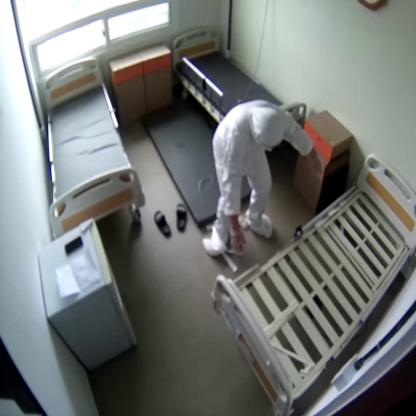Bed: (171, 27, 307, 124)
Person: (202, 98, 312, 254)
